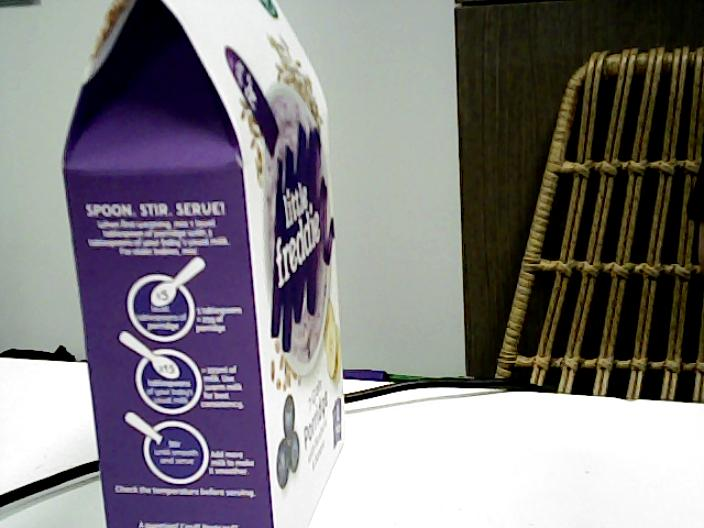Babyfood_100-199g_NonHalal_NonHealthy: (82, 65, 341, 528)
